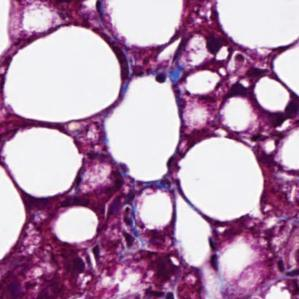inflammation: (216, 63, 270, 99), (110, 203, 148, 250), (63, 244, 110, 276)
